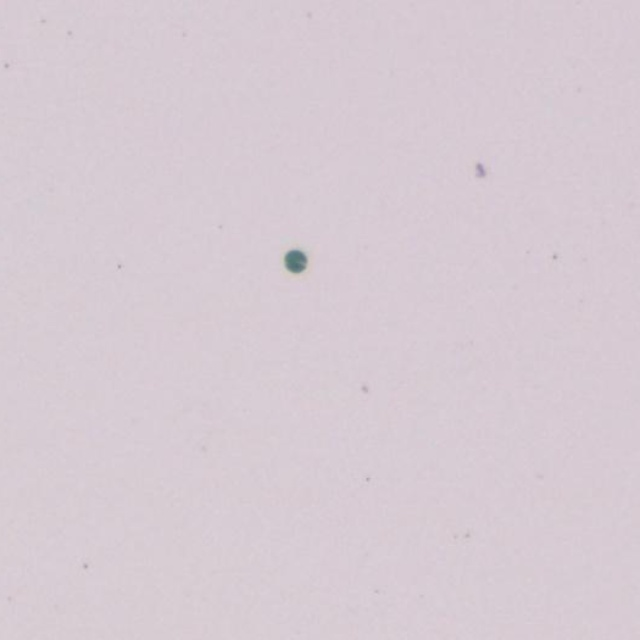non_viable: (284, 249, 307, 273)
